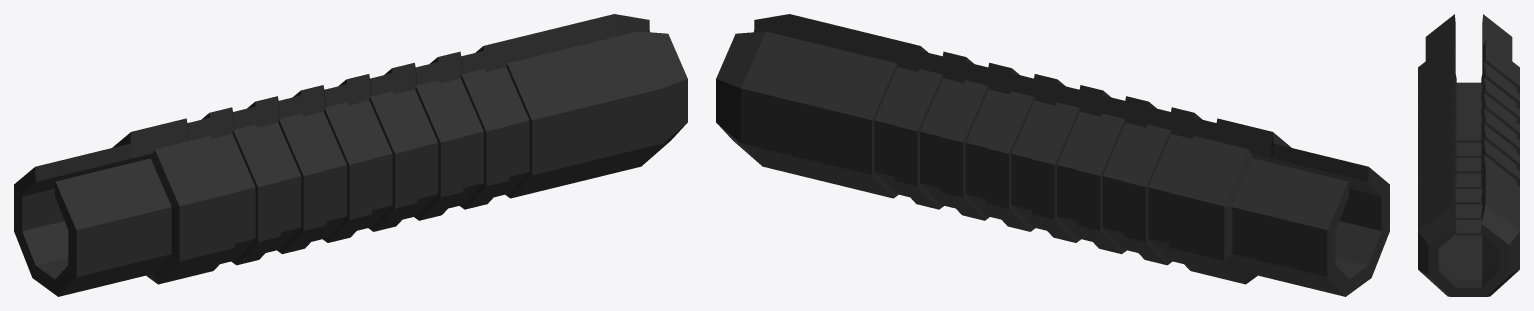
The model's file is Shotgun3_05_2.fbx.
3 views of the same model, side by side, from view 1: azimuth 30°, elevation 25°; view 2: azimuth 150°, elevation 25°; view 3: azimuth 270°, elevation 25° (orthographic). The views are drawn at different scales.
Visible parts, largest first — view 1: Shotgun3_05_2; view 2: Shotgun3_05_2; view 3: Shotgun3_05_2.
Boxes of the visible parts, x1,y1,x2,y2 form: Shotgun3_05_2: (14, 14, 687, 296); Shotgun3_05_2: (716, 14, 1389, 296); Shotgun3_05_2: (1418, 14, 1519, 296).
Size of the model in its own units: 0.2346 by 0.0485 by 0.0485.
